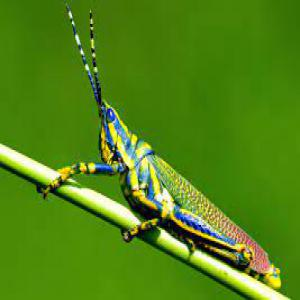locust: (69, 11, 273, 300)
